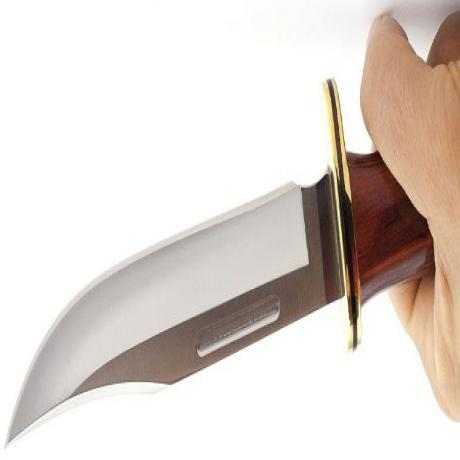weapon: (1, 151, 381, 457)
